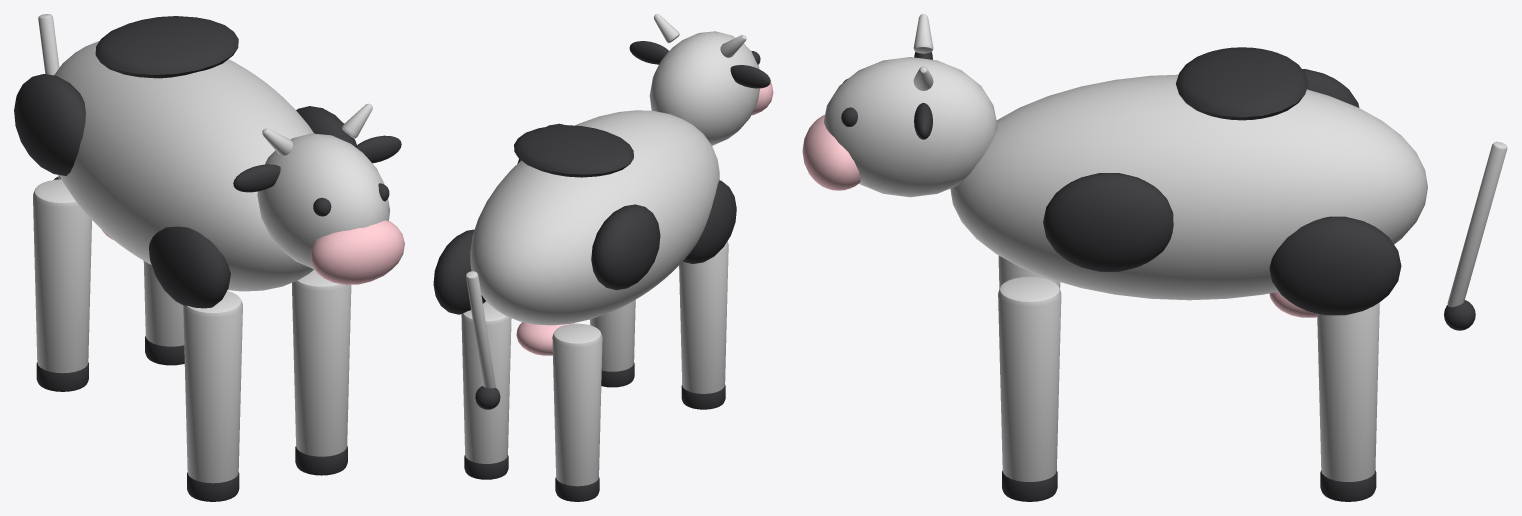
File: ushi.glb
3 renders of one model, left to right at view 1: azimuth 30°, elevation 25°; view 2: azimuth 150°, elevation 25°; view 3: azimuth 270°, elevation 25°, orthographic. The views are drawn at different scales.
Visible parts, largest first — view 1: ushi; view 2: ushi; view 3: ushi.
Part boxes in pixels (box(x1,y1,x2,y2)): ushi: box(14, 14, 404, 501); ushi: box(433, 14, 773, 501); ushi: box(802, 14, 1507, 501).
Size of the model in its own units: 1.07 by 1.76 by 2.66.
